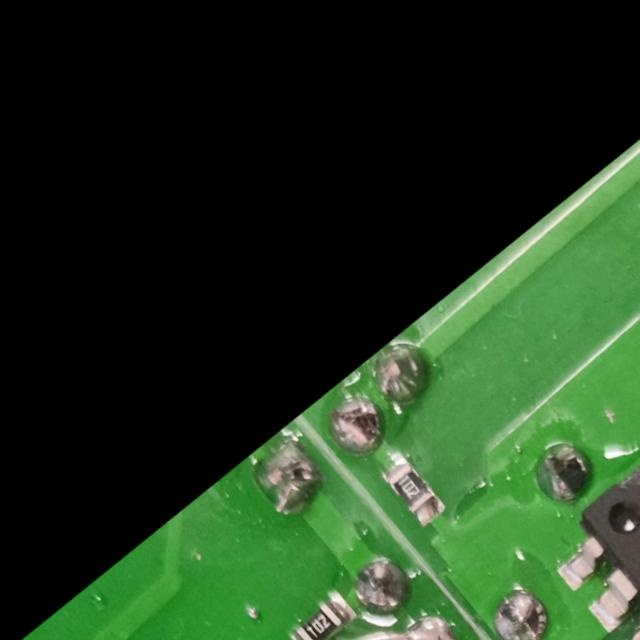chip-resistor: (374, 452, 449, 532), (280, 587, 361, 640)
